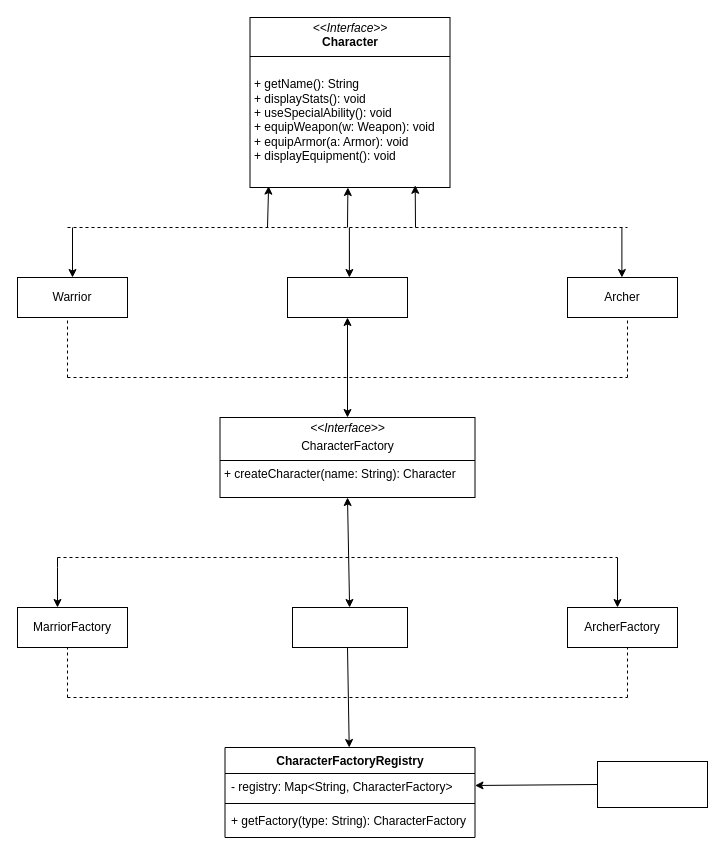
The diagram is 725 pixels wide and 858 high, and some of its shapes have lost their labels. Each missing label, with the centre of its shape:
Mage: the point at 347,297
MageFactory: the point at 350,627
Main: the point at 652,784
